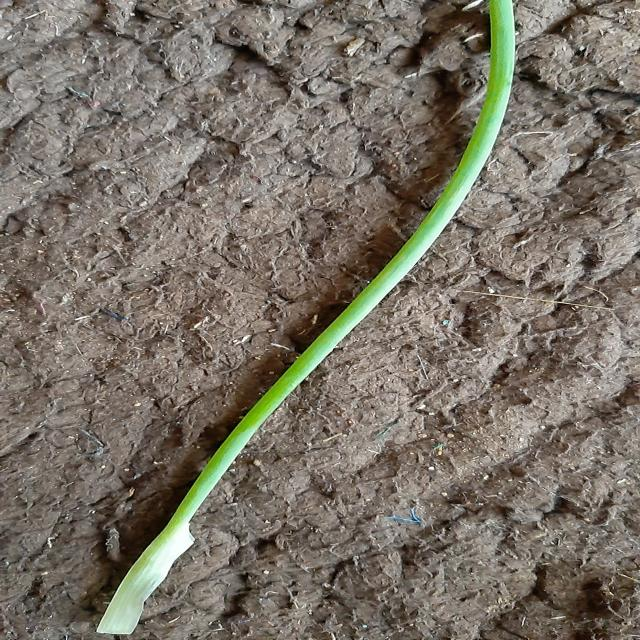onion: (98, 0, 515, 634)
